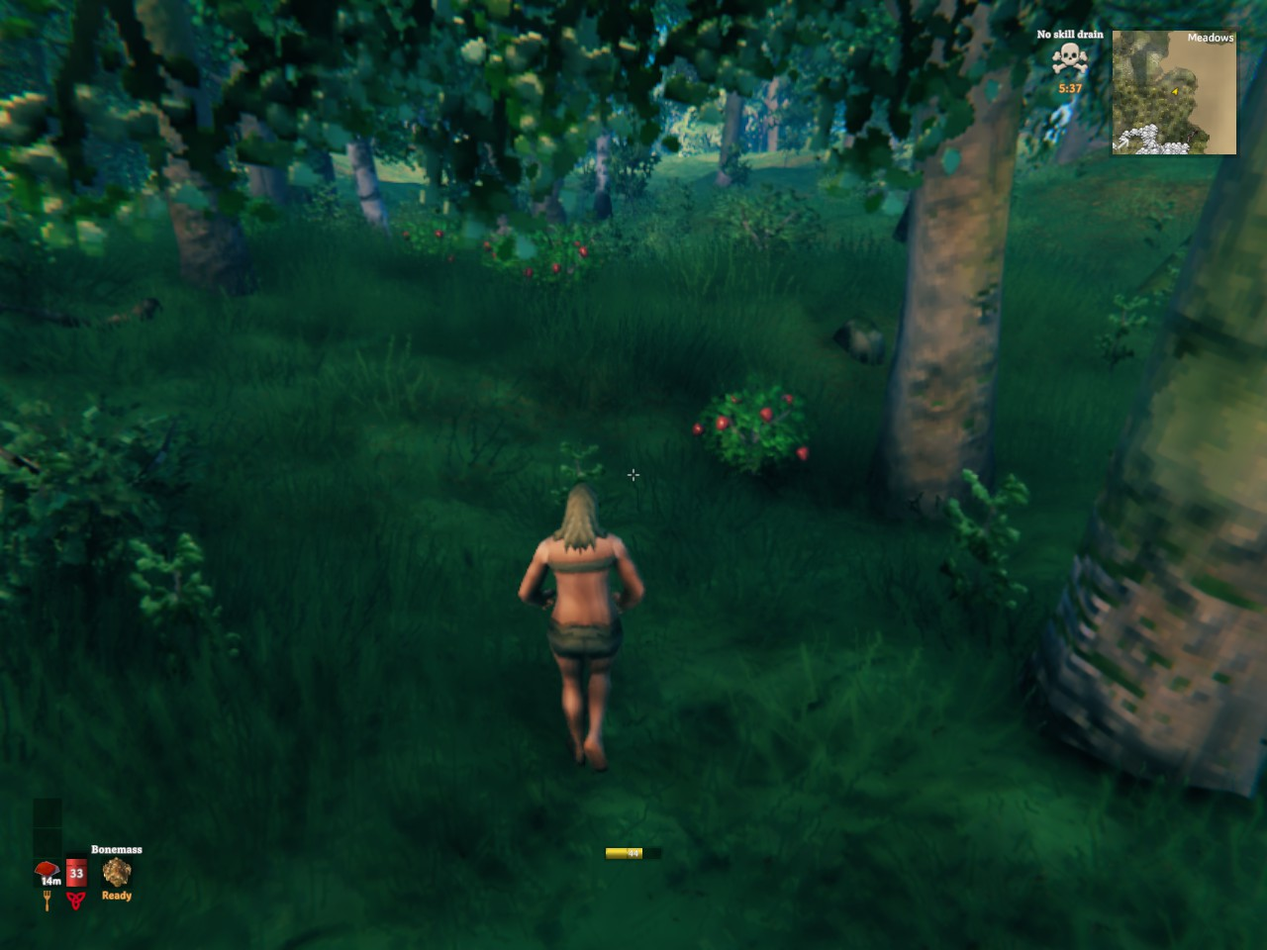Raspberries: (695, 383, 820, 476), (522, 240, 596, 291), (400, 216, 463, 260), (471, 228, 532, 273)
